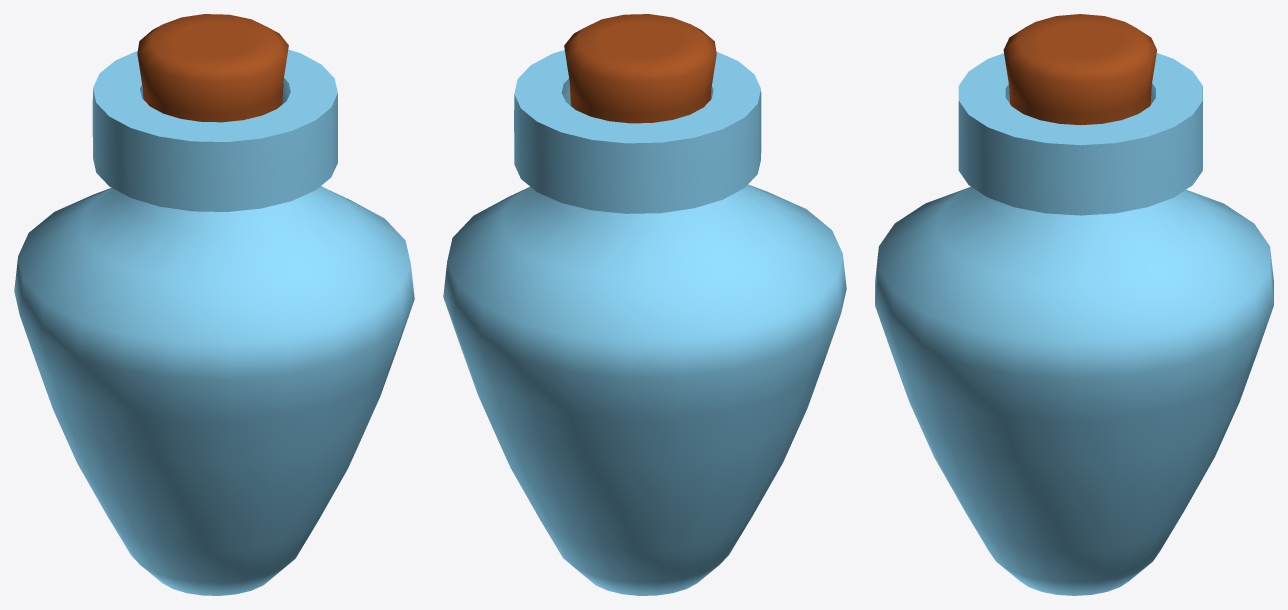
The model's file is FlaskPot.fbx.
3 views of the same model, side by side, from view 1: azimuth 30°, elevation 25°; view 2: azimuth 150°, elevation 25°; view 3: azimuth 270°, elevation 25° (orthographic).
Parts seen in each view (by area): view 1: FlaskPot; view 2: FlaskPot; view 3: FlaskPot.
Boxes of the visible parts, box(x1,y1,x2,y2) form: FlaskPot: box(14, 14, 414, 595); FlaskPot: box(443, 14, 846, 595); FlaskPot: box(875, 14, 1273, 595).
Bounding box in the file's own units: 16.07 × 23.34 × 15.9.
